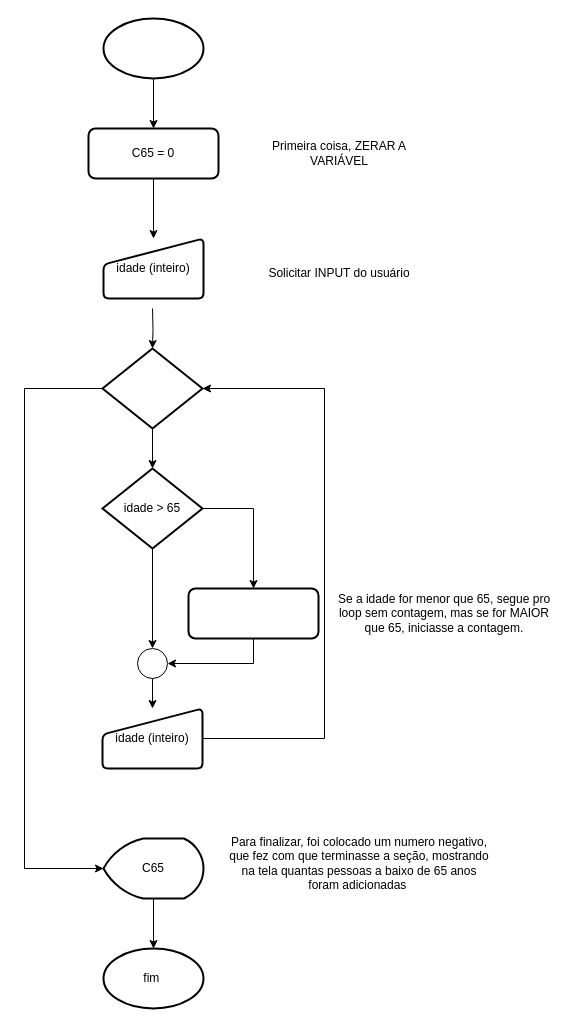
Some shapes in this 572 by 1026 pixel diagram are drawn without their labels. Here are the shapes that lost their labels. From the top down, the box of each, then its label:
(102, 17, 204, 79): inicio
(101, 347, 203, 429): idade >= 0
(187, 587, 319, 639): C65 = C65+1
